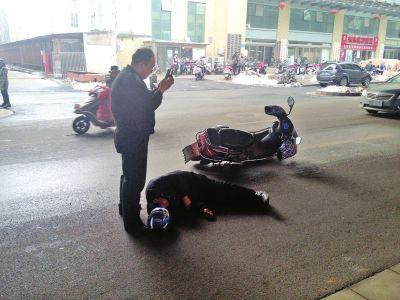Fall-Detected: (137, 164, 275, 232)
